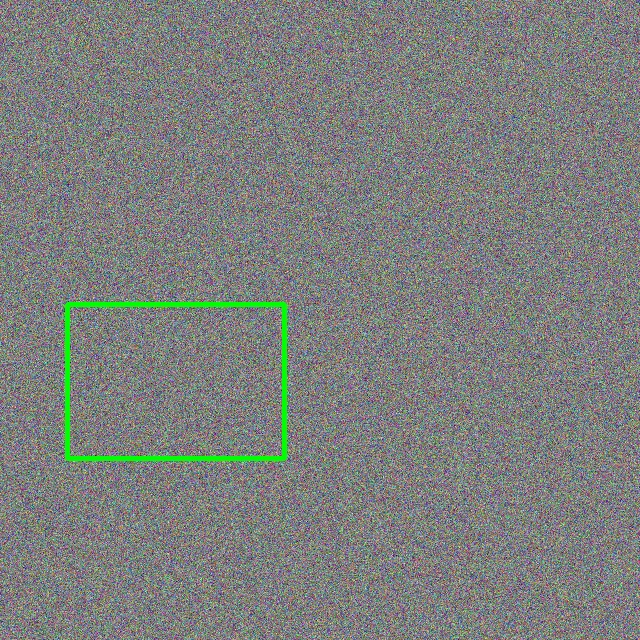base: (67, 304, 284, 458)
